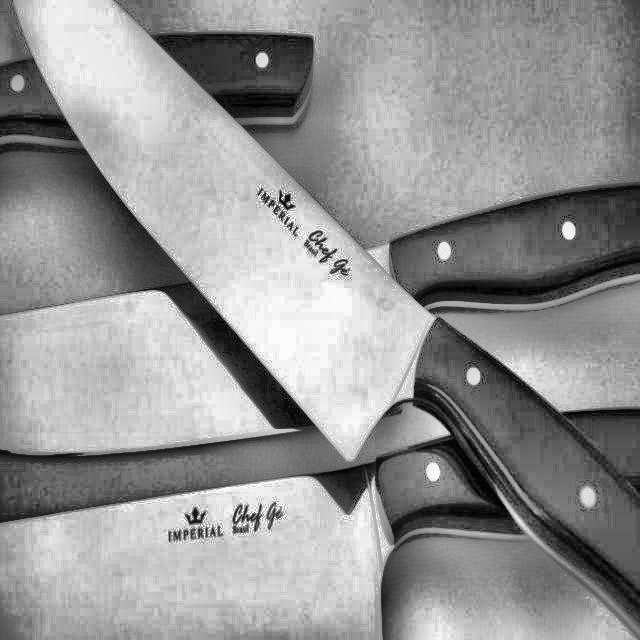pisau: (7, 0, 639, 637)
